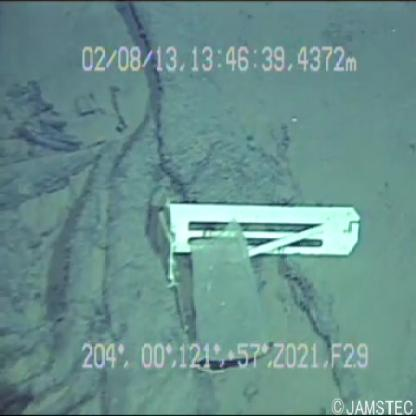Rác: (156, 185, 366, 286)
